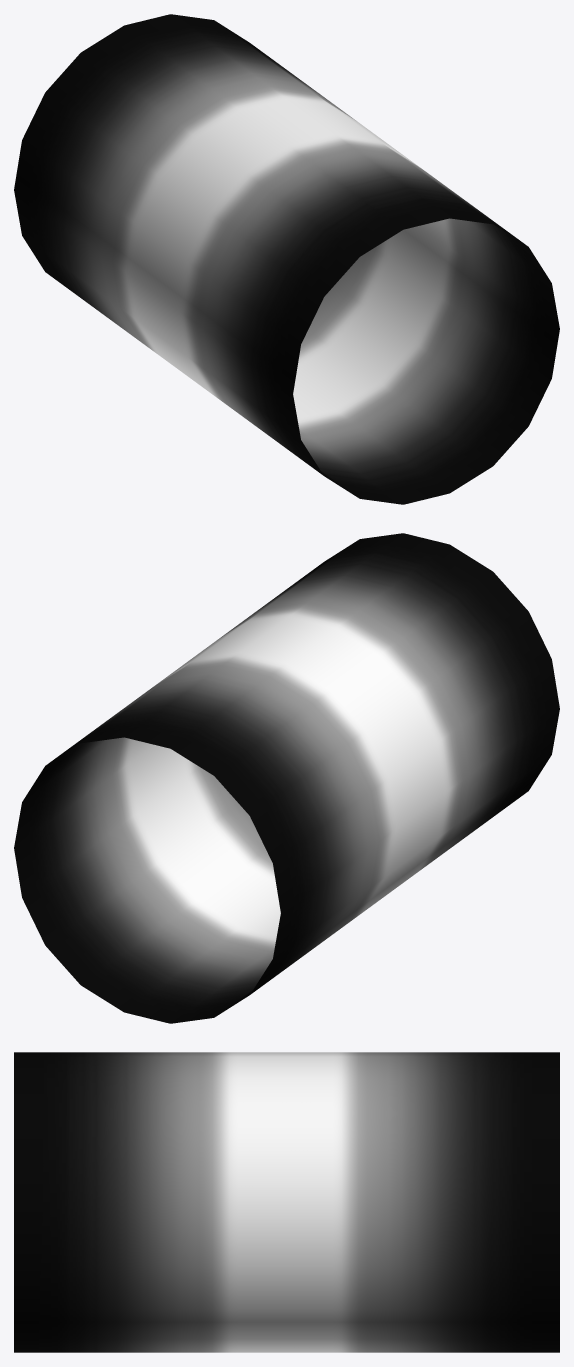
File: EndGlow.FBX
3 renders of one model, top to bottom at view 1: azimuth 30°, elevation 25°; view 2: azimuth 150°, elevation 25°; view 3: azimuth 270°, elevation 25°, orthographic. The views are drawn at different scales.
Parts seen in each view (by area): view 1: IntroEndCylinder; view 2: IntroEndCylinder; view 3: IntroEndCylinder.
Boxes of the visible parts, x1,y1,x2,y2 form: IntroEndCylinder: (14, 14, 559, 504); IntroEndCylinder: (14, 533, 559, 1023); IntroEndCylinder: (14, 1052, 559, 1352).
Size of the model in its own units: 78 by 76.82 by 141.
Materials: 1 (1 with a texture image).
